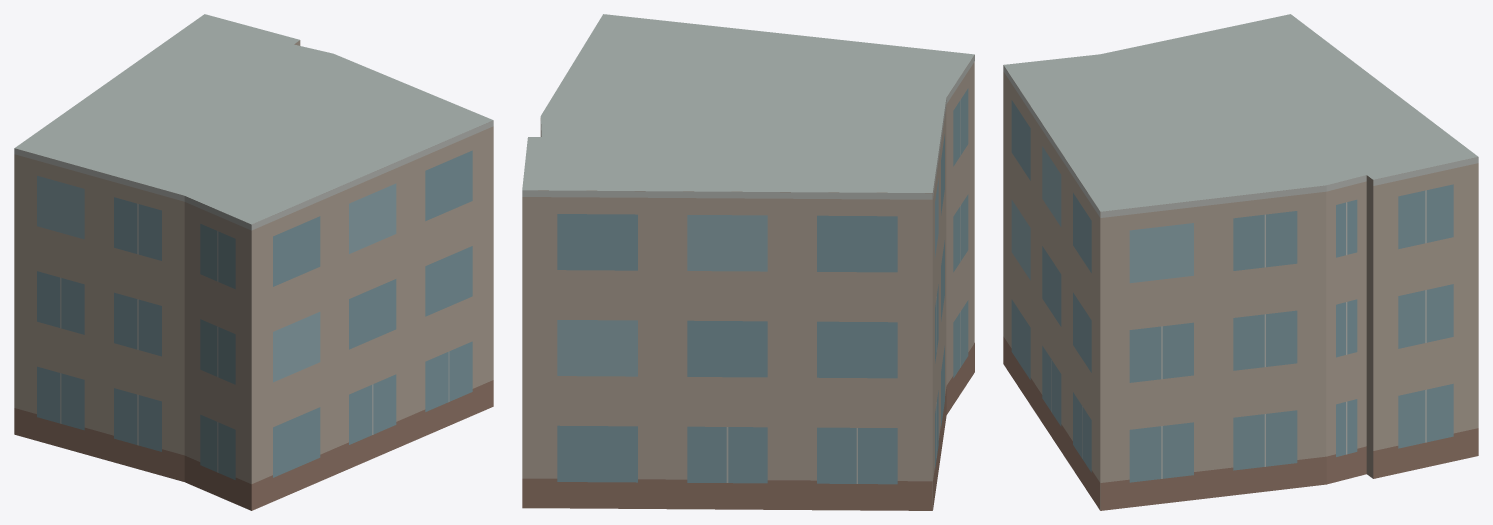
The model's file is survey-upis-33034411.glb.
3 views of the same model, side by side, from view 1: azimuth 30°, elevation 25°; view 2: azimuth 150°, elevation 25°; view 3: azimuth 270°, elevation 25° (orthographic). The views are drawn at different scales.
Parts seen in each view (by area): view 1: survey-upis-33034411.tmp; view 2: survey-upis-33034411.tmp; view 3: survey-upis-33034411.tmp.
Boxes of the visible parts, x1,y1,x2,y2 form: survey-upis-33034411.tmp: [14, 14, 493, 510]; survey-upis-33034411.tmp: [522, 14, 974, 510]; survey-upis-33034411.tmp: [1003, 14, 1478, 510].
Bounding box in the file's own units: 16.46 × 11.6 × 16.71.
